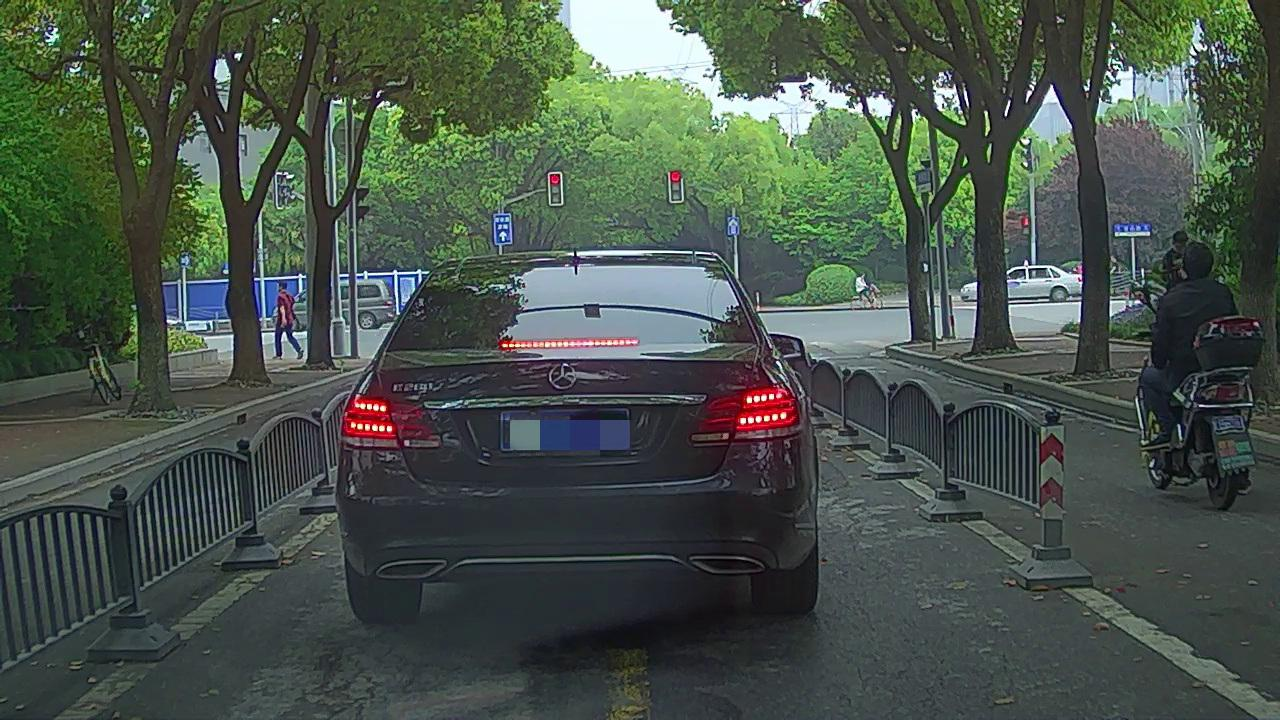traffic_light: (669, 172, 682, 202), (550, 173, 561, 206)
